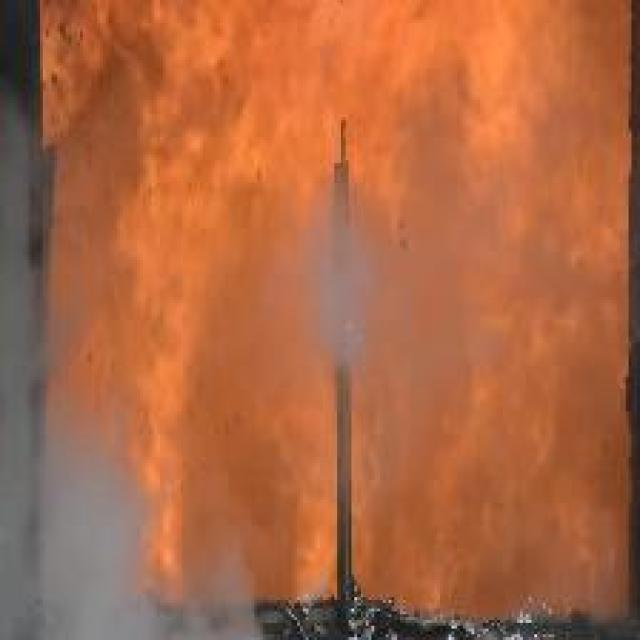fire: (37, 0, 634, 626)
